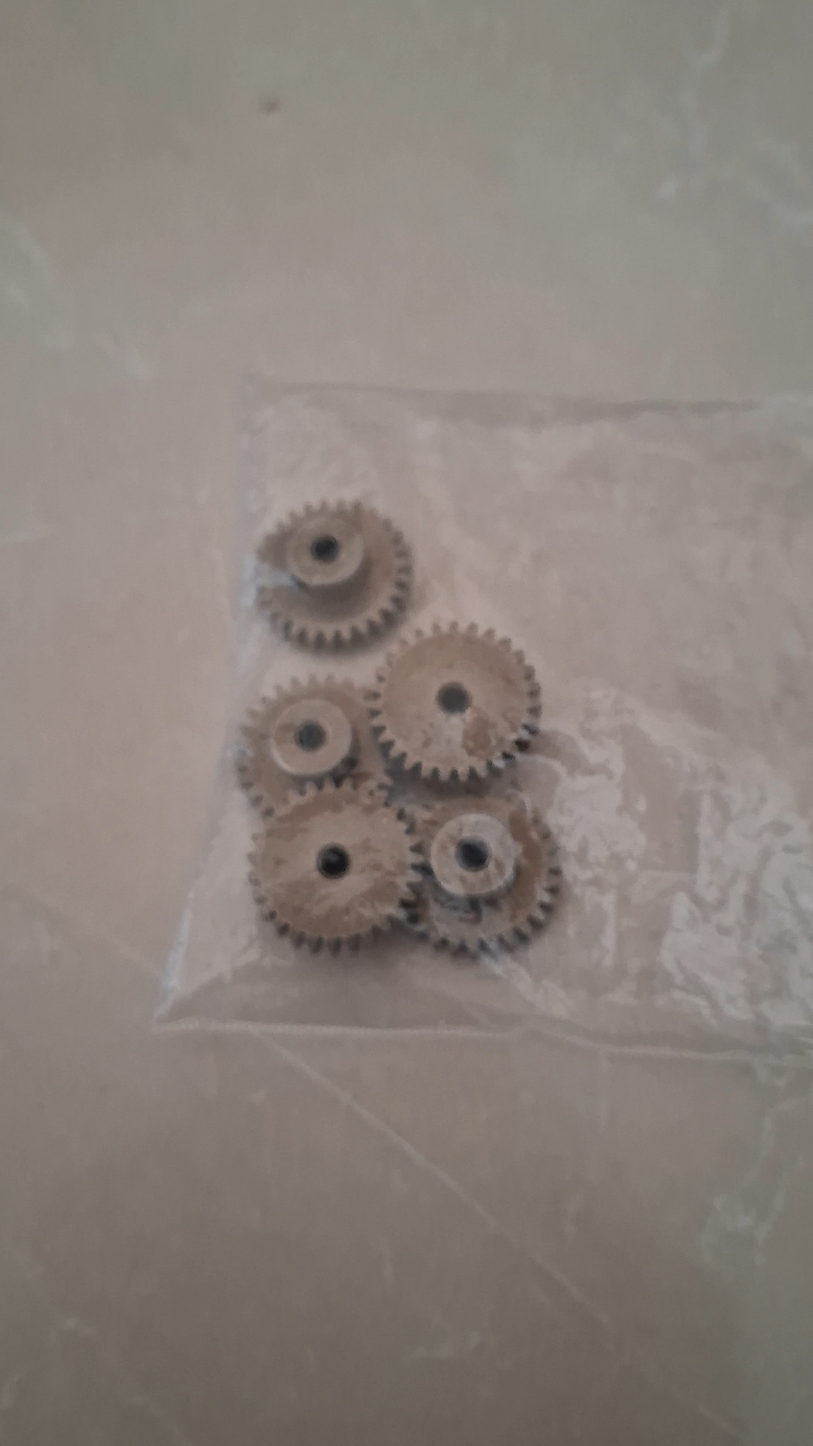spur gear: (250, 779, 421, 950), (367, 624, 540, 782), (410, 795, 560, 953), (257, 502, 410, 647), (237, 678, 385, 813)
